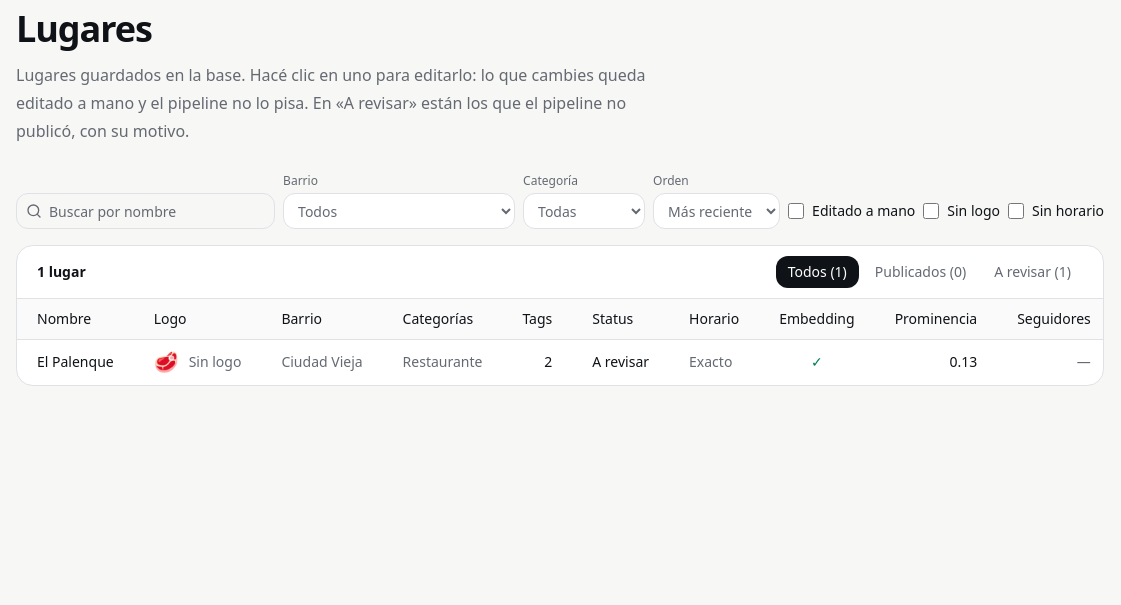
Test: SavedPlacesPage › publica a mano: sale de A revisar y queda publicado
The image size is (1121, 605).
Click the button "A revisar (1)". click: (1033, 272)
box: [982,256,1083,288]
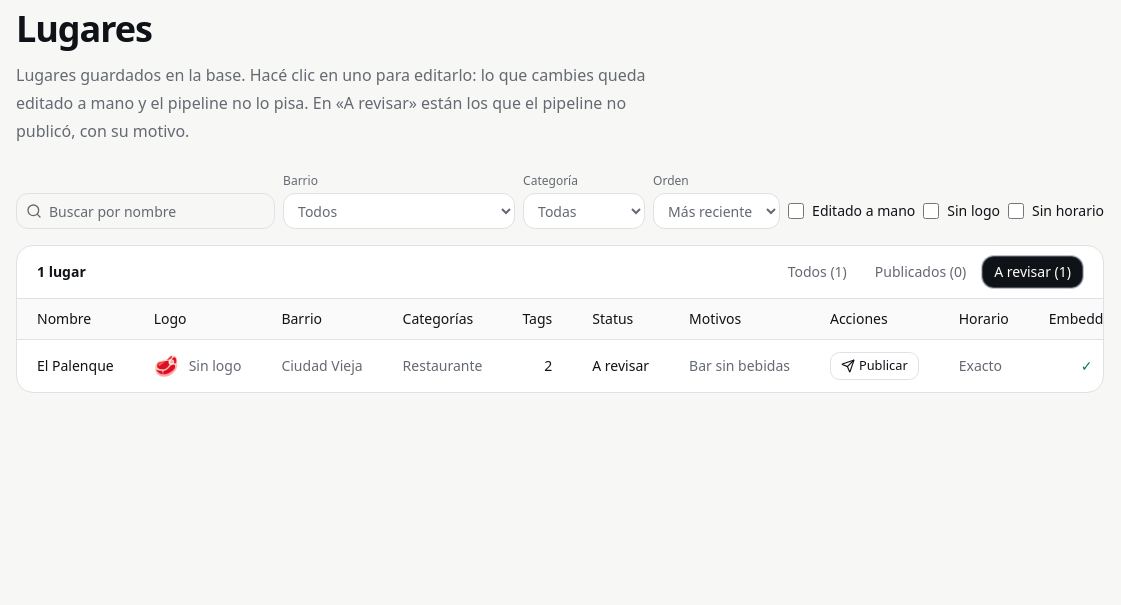
Click the button with aria-label "Publicar El Palenque". click: (874, 366)
box: [830,352,919,380]
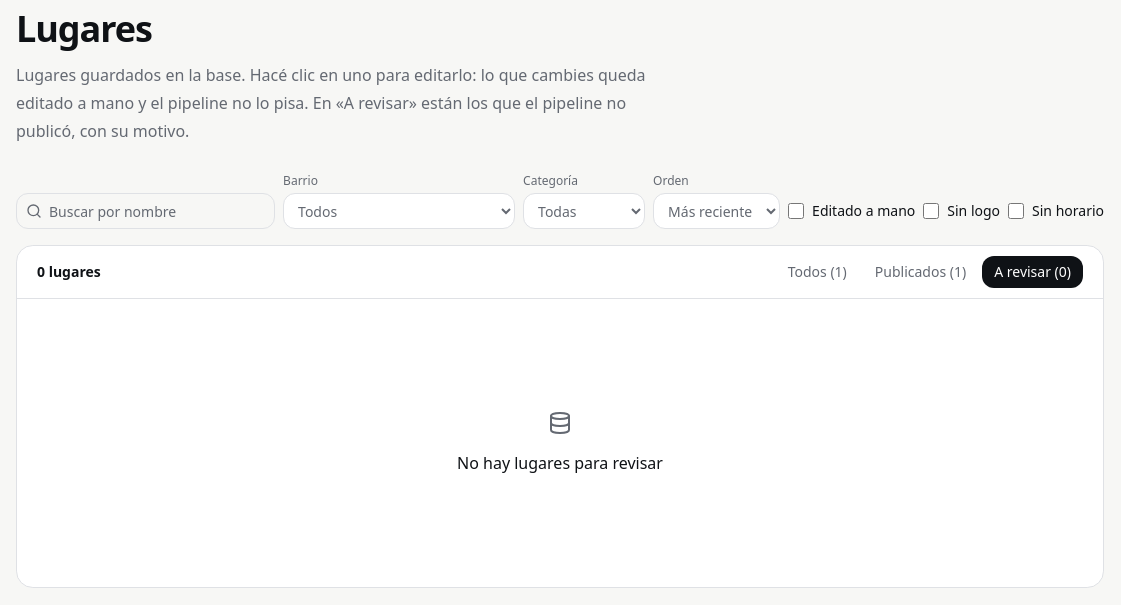
expect the text "No hay lugares para revisar" is shown: met, box [457,451,663,475]
Click the button "Todos (1)". click: (817, 272)
box: [776,256,859,288]
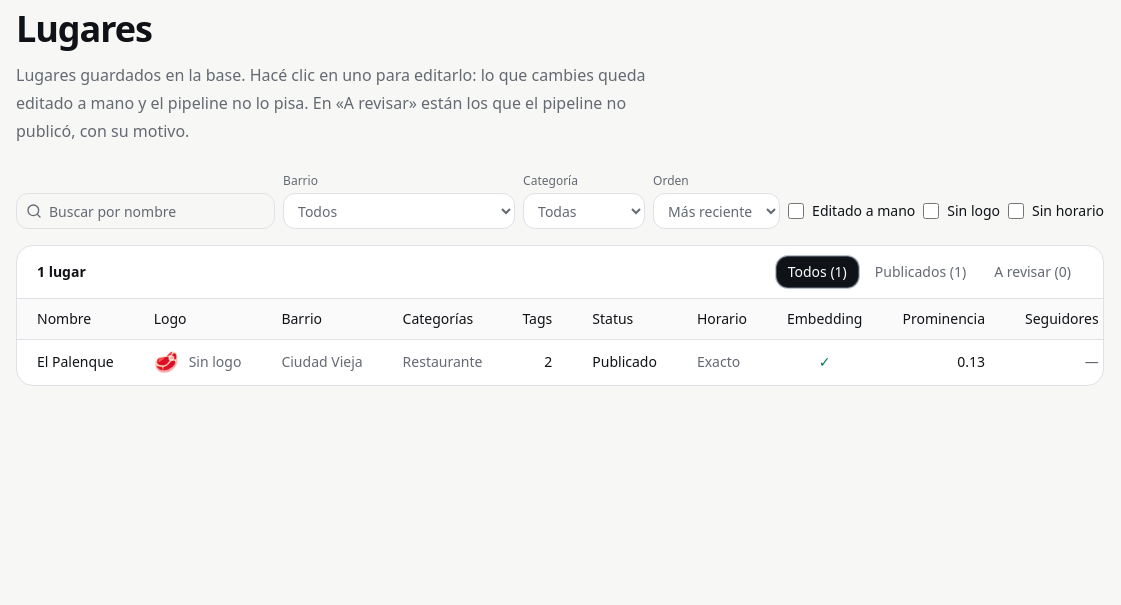
expect the text "Publicado" is shown: met, box [572,339,677,384]
